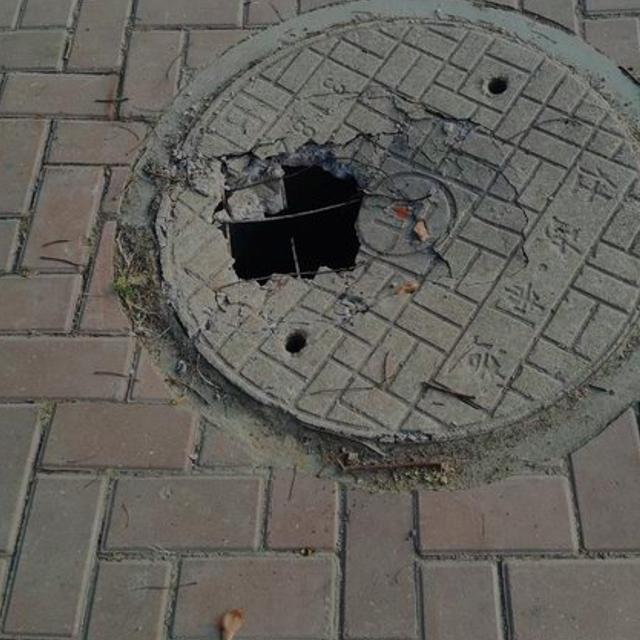broke: (95, 0, 640, 493)
